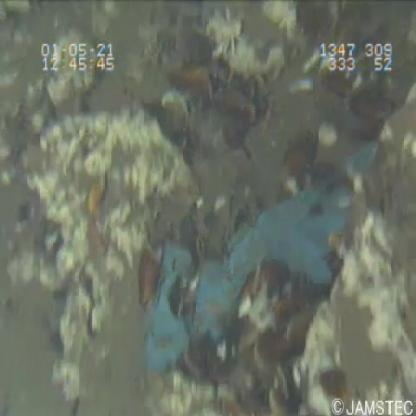Rác: (142, 174, 374, 388)
